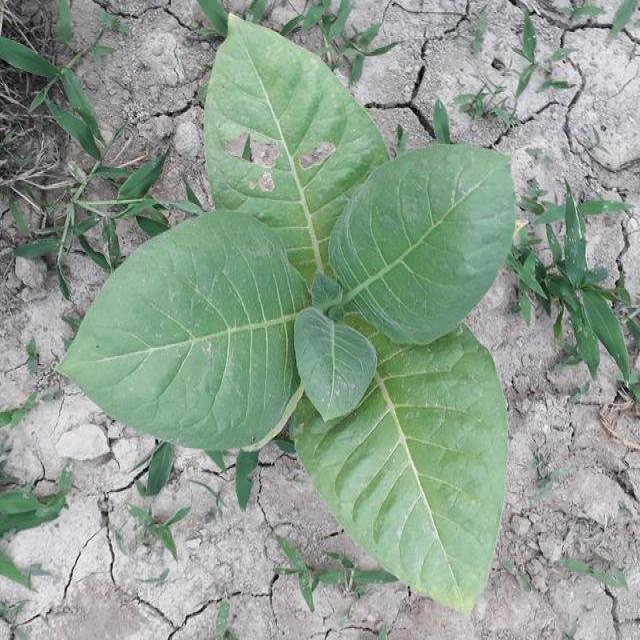crop: (58, 21, 515, 610)
